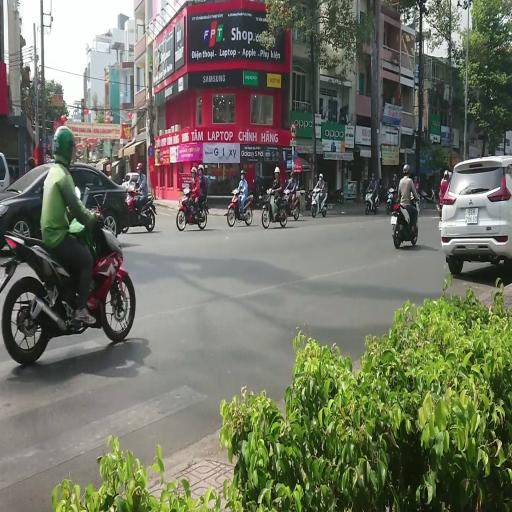bikes: (1, 194, 136, 365), (121, 181, 156, 232), (82, 187, 116, 238), (390, 194, 420, 248), (176, 187, 207, 231), (261, 188, 288, 228), (226, 188, 254, 226), (436, 170, 452, 218), (282, 188, 300, 220), (310, 186, 328, 217), (364, 182, 380, 214), (386, 174, 398, 214), (250, 177, 264, 208), (430, 186, 441, 218), (419, 187, 436, 204), (335, 188, 344, 204), (419, 190, 427, 208), (436, 202, 442, 219), (430, 187, 436, 202)
helmet: (52, 126, 75, 167), (74, 185, 81, 199), (128, 182, 135, 193), (403, 164, 410, 174), (136, 163, 143, 170), (198, 164, 204, 172), (190, 166, 196, 174), (184, 187, 190, 195), (274, 166, 280, 173), (242, 167, 248, 173), (232, 188, 238, 194), (266, 188, 272, 194), (125, 174, 130, 181), (389, 187, 394, 193), (444, 170, 448, 177), (371, 173, 375, 180), (393, 174, 397, 181), (290, 172, 294, 179), (415, 182, 419, 189), (319, 173, 323, 179), (431, 169, 435, 175), (241, 170, 245, 175), (414, 176, 417, 181), (252, 178, 254, 184)
